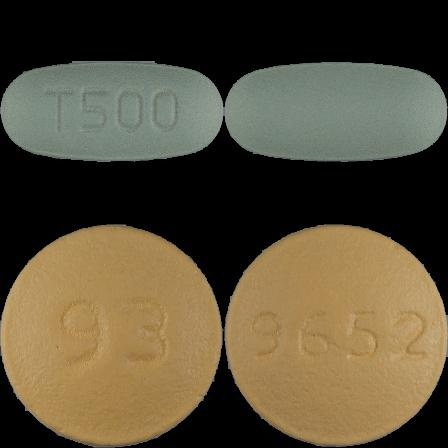35356-324: (0, 0, 224, 224)
